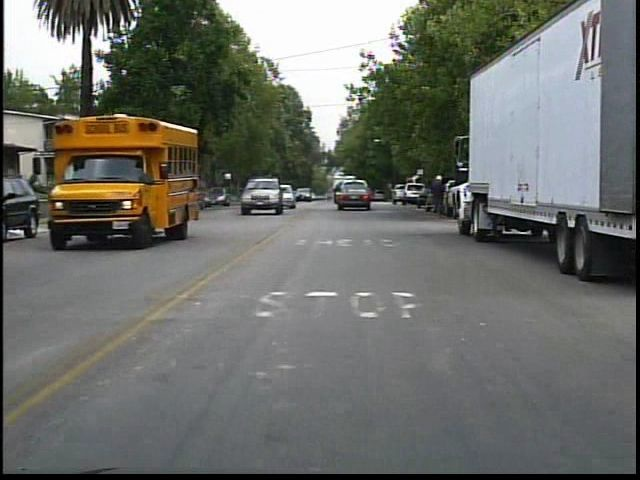person: (425, 171, 449, 219)
